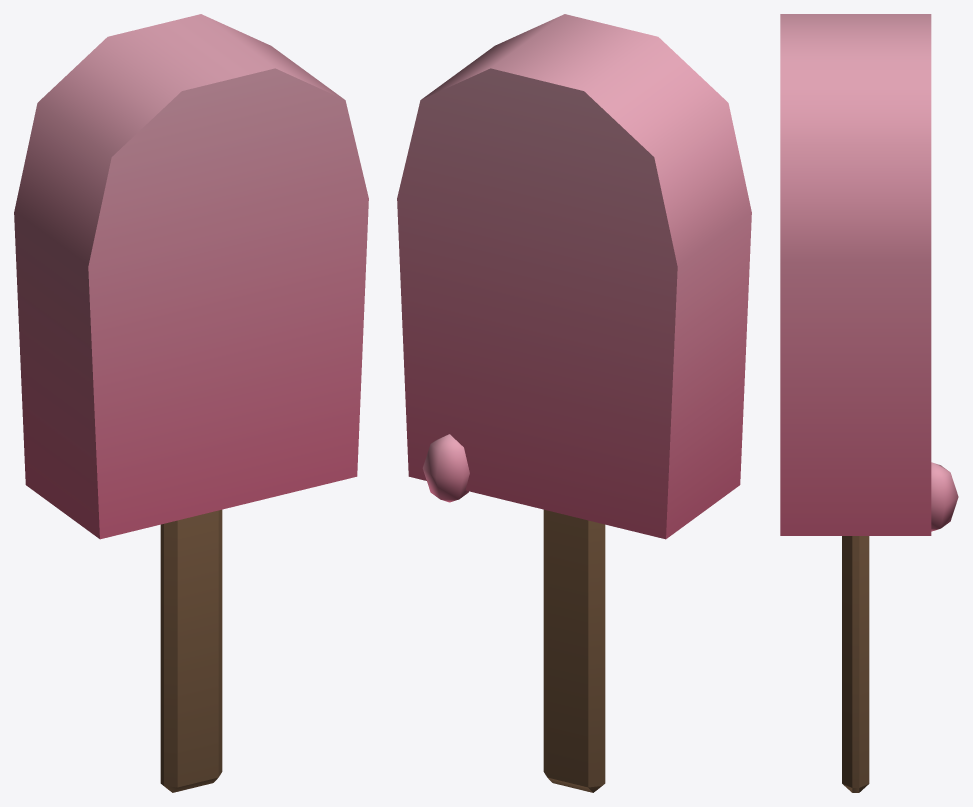
Rendered from dt_ice_lolly.fbx.
3 views of the same model, side by side, from view 1: azimuth 30°, elevation 25°; view 2: azimuth 150°, elevation 25°; view 3: azimuth 270°, elevation 25° (orthographic).
Visible parts, largest first — view 1: dt_ice_lolly; view 2: dt_ice_lolly; view 3: dt_ice_lolly.
Part boxes in pixels (left/top/right/bottom): dt_ice_lolly: left=14, top=14, right=368, bottom=792; dt_ice_lolly: left=397, top=14, right=751, bottom=792; dt_ice_lolly: left=780, top=14, right=958, bottom=792.
Bounding box in the file's own units: 24 × 60 × 13.
